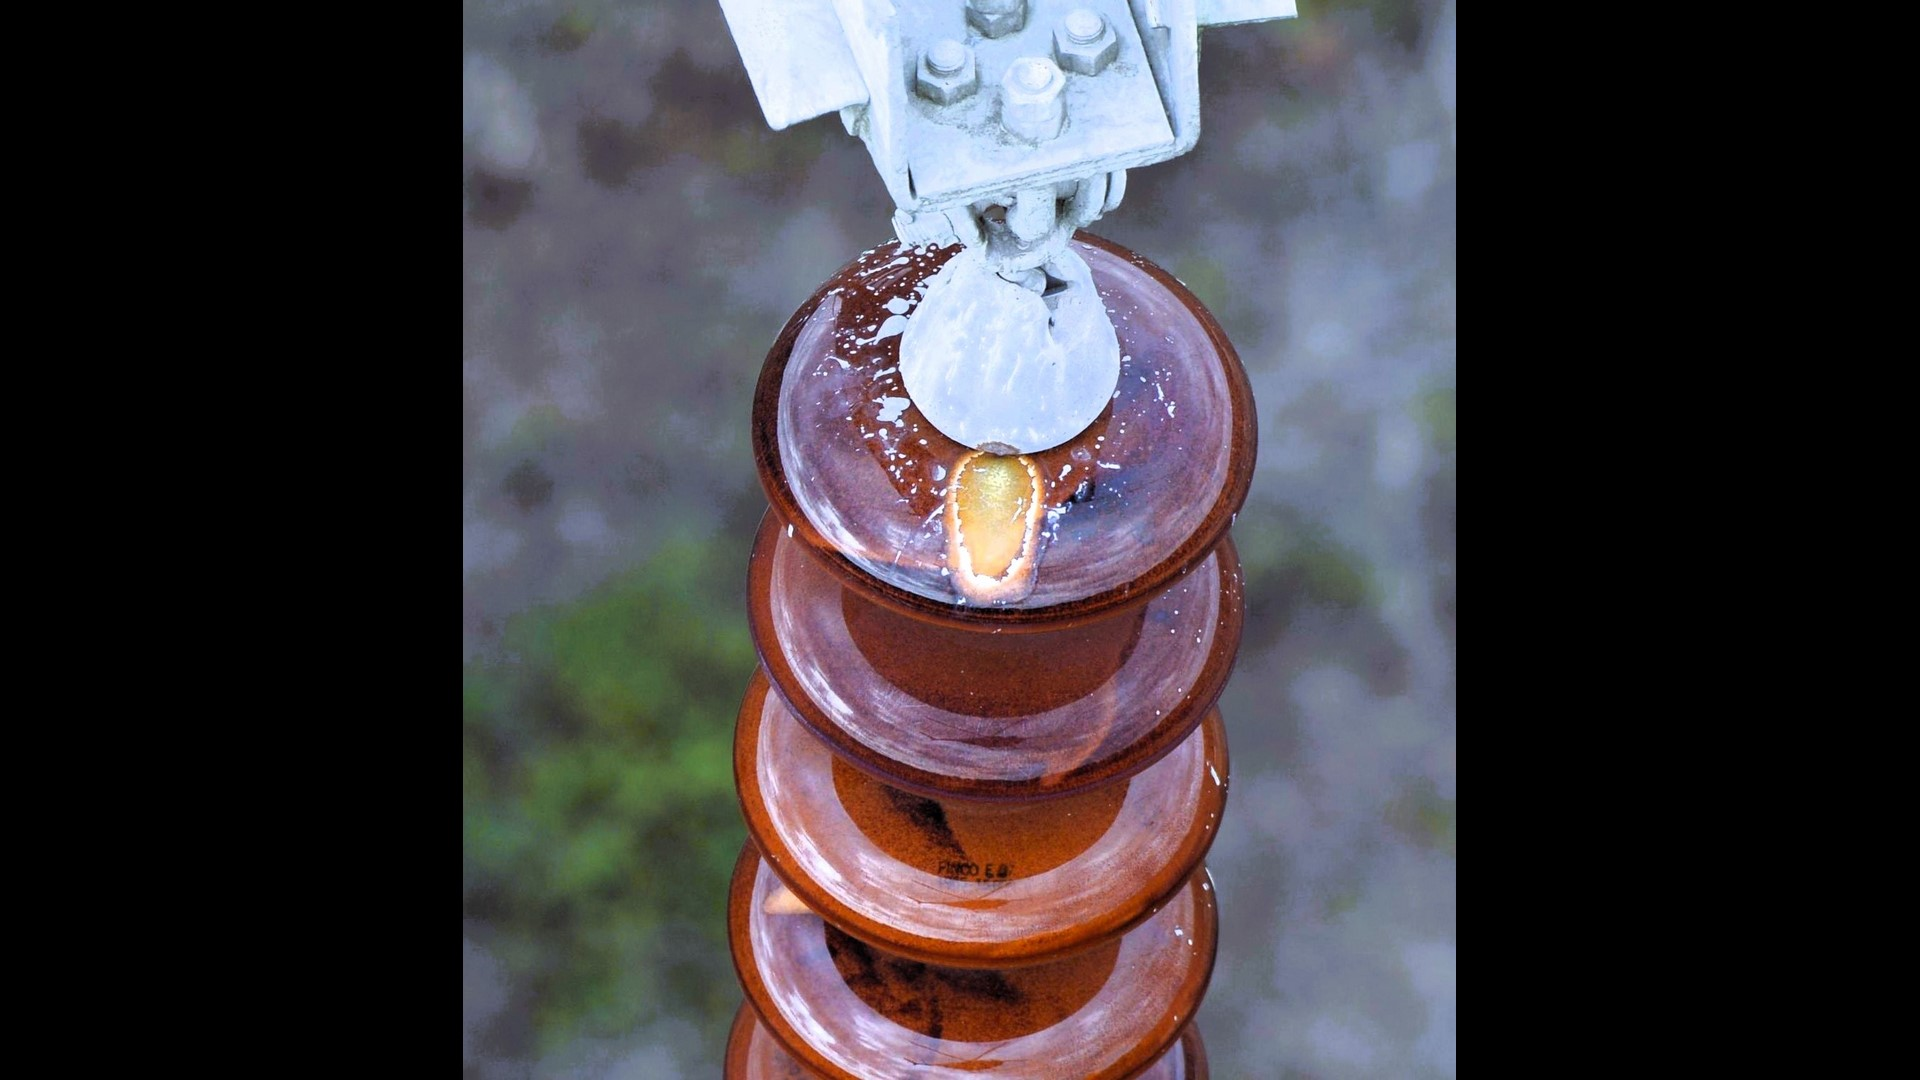Insulator flashover: (732, 206, 1271, 636)
